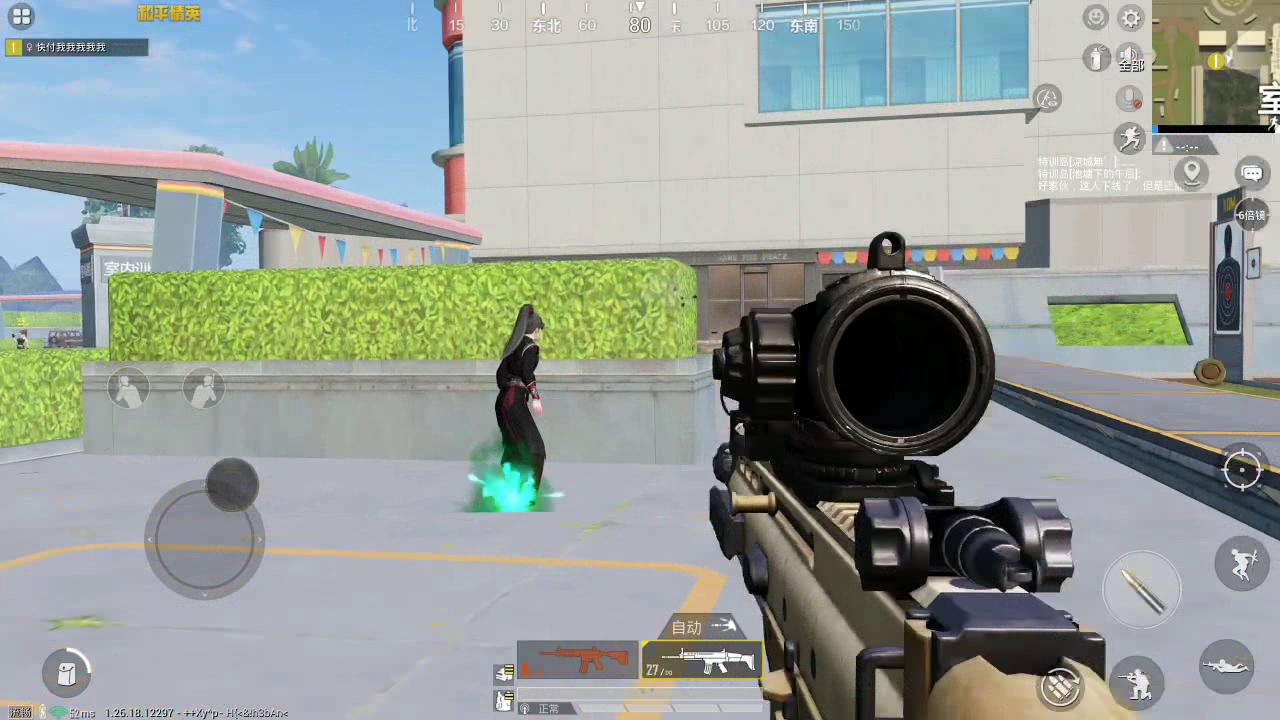enemy: (495, 300, 550, 504)
